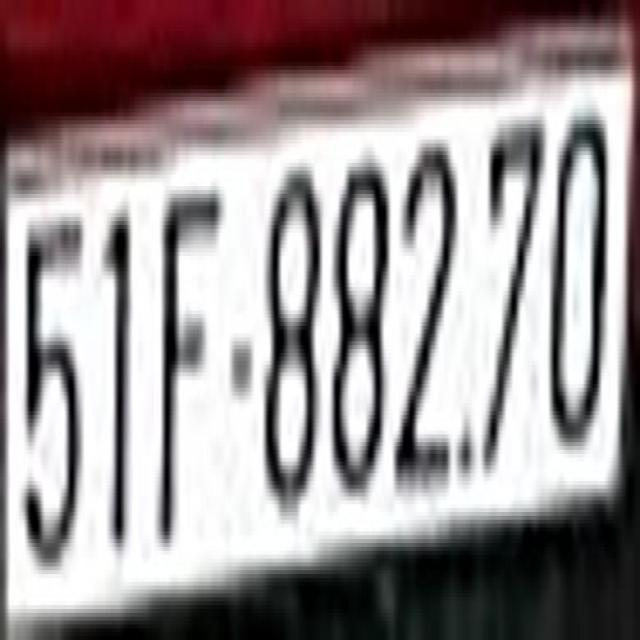0: (550, 108, 607, 466)
1: (104, 198, 129, 566)
2: (396, 128, 457, 496)
5: (25, 198, 81, 578)
7: (478, 112, 545, 485)
8: (266, 155, 319, 520), (332, 144, 386, 477)
F: (155, 175, 221, 539)
